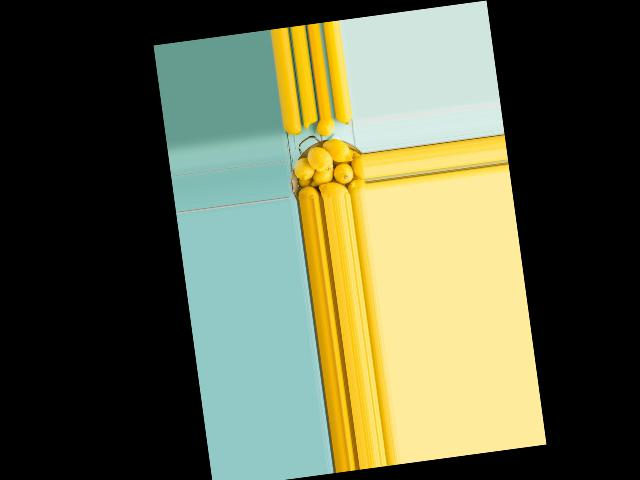lemon: (343, 179, 366, 195)
